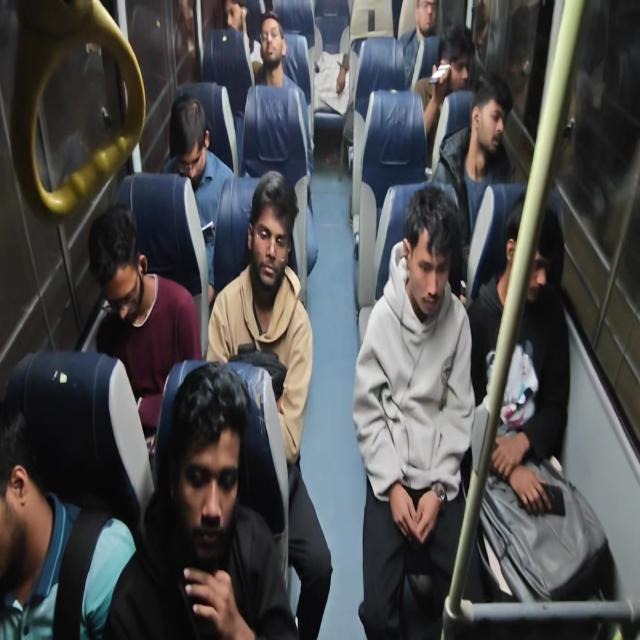person: (464, 193, 617, 606), (205, 170, 333, 638), (352, 184, 483, 638), (102, 362, 300, 639), (0, 409, 137, 639), (87, 203, 202, 447), (161, 92, 234, 302), (432, 71, 515, 244), (253, 11, 315, 190), (413, 23, 475, 169), (313, 2, 352, 115), (398, 0, 440, 89), (224, 0, 260, 85)
